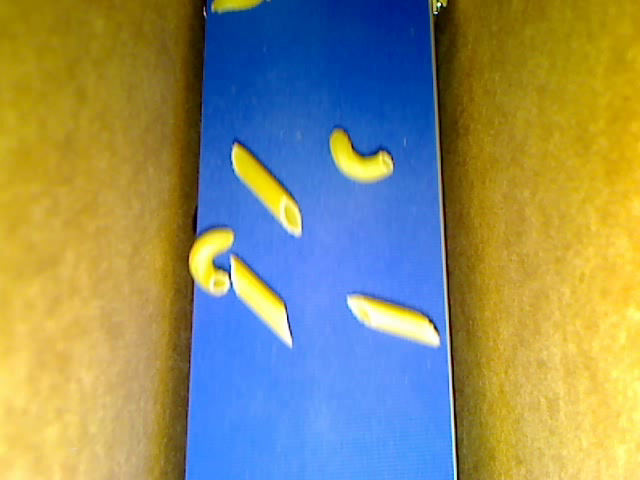elbow: (328, 126, 393, 184), (188, 226, 235, 297)
penne: (231, 141, 304, 238), (228, 253, 293, 347), (346, 294, 441, 349)
